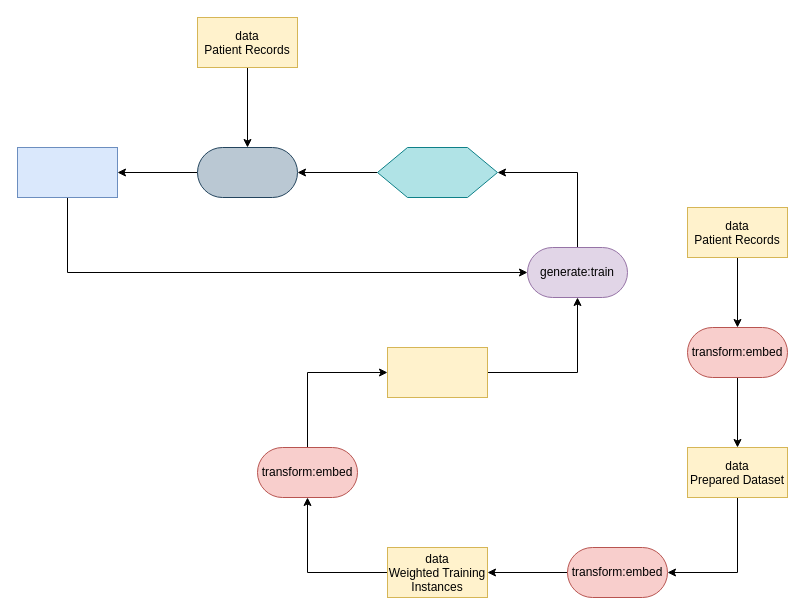
This 805x615 diagram has some shape labels left out. Here are the shapes that lost their labels. From the top down, the box of each, then its label:
(16, 146, 118, 198): symbol Hospital Readmission
(196, 146, 298, 198): infer:deduce
(376, 146, 498, 198): model WFM Model
(386, 346, 488, 398): data Partitioned Subsets
